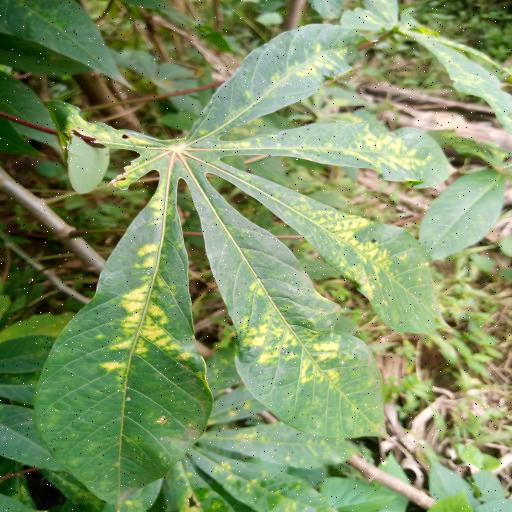Cassava_Mosaic: (35, 14, 444, 512)
